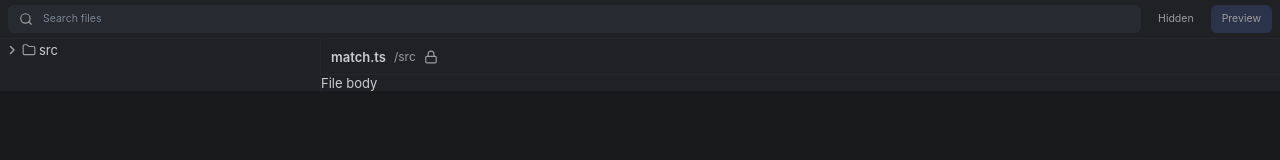
Test case: FileExplorer › removes preview and separator when closed
expect the text "File body" is shown: met, box [321,75,377,91]
Click the button "Preview": click(1241, 19) [1211,5,1272,33]
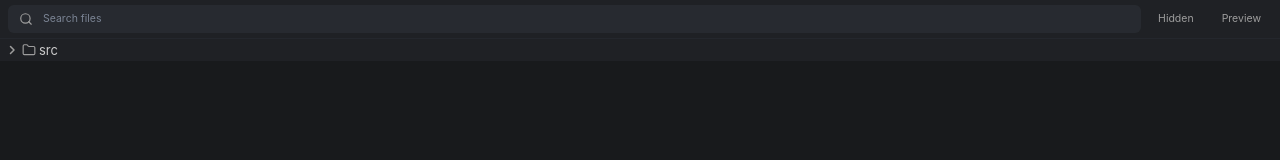
expect the text "File body" is gone: met
